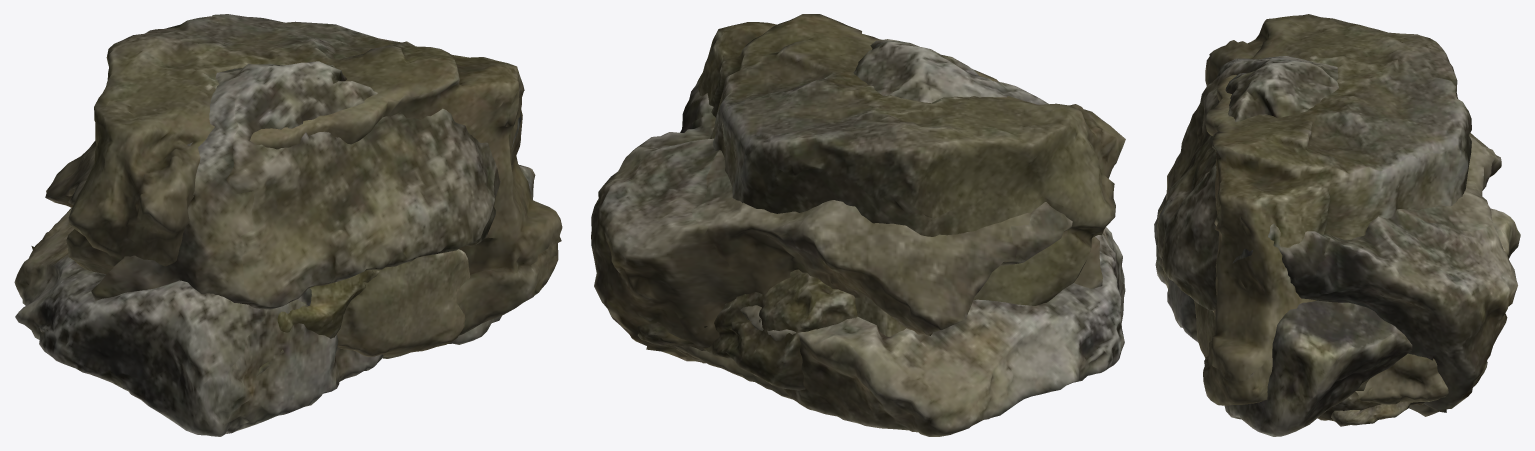
The model's file is rock_moss_set_02.glb.
3 views of the same model, side by side, from view 1: azimuth 30°, elevation 25°; view 2: azimuth 150°, elevation 25°; view 3: azimuth 270°, elevation 25° (orthographic). The views are drawn at different scales.
Parts seen in each view (by area): view 1: rock_moss_set_02_f_lod0, rock_moss_set_02_b_lod0, rock_moss_set_02_g_lod0, rock_moss_set_02_a_lod0, rock_moss_set_02_d_lod0; view 2: rock_moss_set_02_f_lod0, rock_moss_set_02_b_lod0, rock_moss_set_02_g_lod0, rock_moss_set_02_d_lod0, rock_moss_set_02_a_lod0; view 3: rock_moss_set_02_f_lod0, rock_moss_set_02_b_lod0, rock_moss_set_02_g_lod0, rock_moss_set_02_a_lod0, rock_moss_set_02_e_lod0, rock_moss_set_02_d_lod0.
Part boxes in pixels (bbox=[...]): rock_moss_set_02_f_lod0: bbox=[66, 14, 562, 358]; rock_moss_set_02_b_lod0: bbox=[45, 61, 521, 309]; rock_moss_set_02_g_lod0: bbox=[14, 165, 535, 436]; rock_moss_set_02_a_lod0: bbox=[337, 249, 470, 356]; rock_moss_set_02_d_lod0: bbox=[257, 270, 379, 375]; rock_moss_set_02_f_lod0: bbox=[696, 14, 1125, 305]; rock_moss_set_02_b_lod0: bbox=[591, 39, 1102, 363]; rock_moss_set_02_g_lod0: bbox=[740, 227, 1125, 436]; rock_moss_set_02_d_lod0: bbox=[637, 272, 857, 390]; rock_moss_set_02_a_lod0: bbox=[674, 269, 906, 399]; rock_moss_set_02_f_lod0: bbox=[1203, 14, 1471, 405]; rock_moss_set_02_b_lod0: bbox=[1157, 56, 1517, 416]; rock_moss_set_02_g_lod0: bbox=[1154, 194, 1520, 436]; rock_moss_set_02_a_lod0: bbox=[1194, 300, 1448, 404]; rock_moss_set_02_e_lod0: bbox=[1331, 401, 1411, 426]; rock_moss_set_02_d_lod0: bbox=[1317, 361, 1487, 420].
Size of what is drawn, in the model's own units: 2.2 by 1.31 by 1.55.
Materials: 1 (1 with a texture image).
